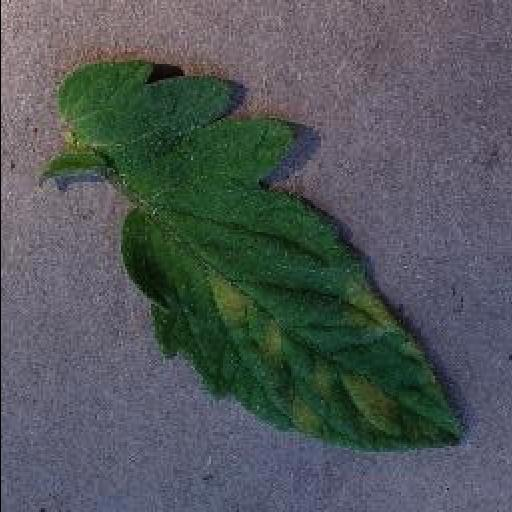disease_tomato: (54, 60, 468, 454)
